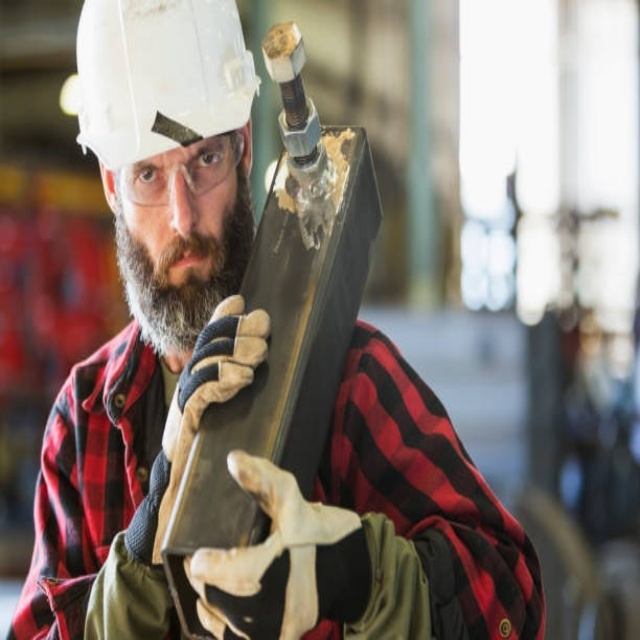Gafas: (114, 129, 243, 208)
Guantes: (179, 453, 375, 631), (159, 284, 272, 463)
Sin_mascara: (150, 232, 219, 303)
